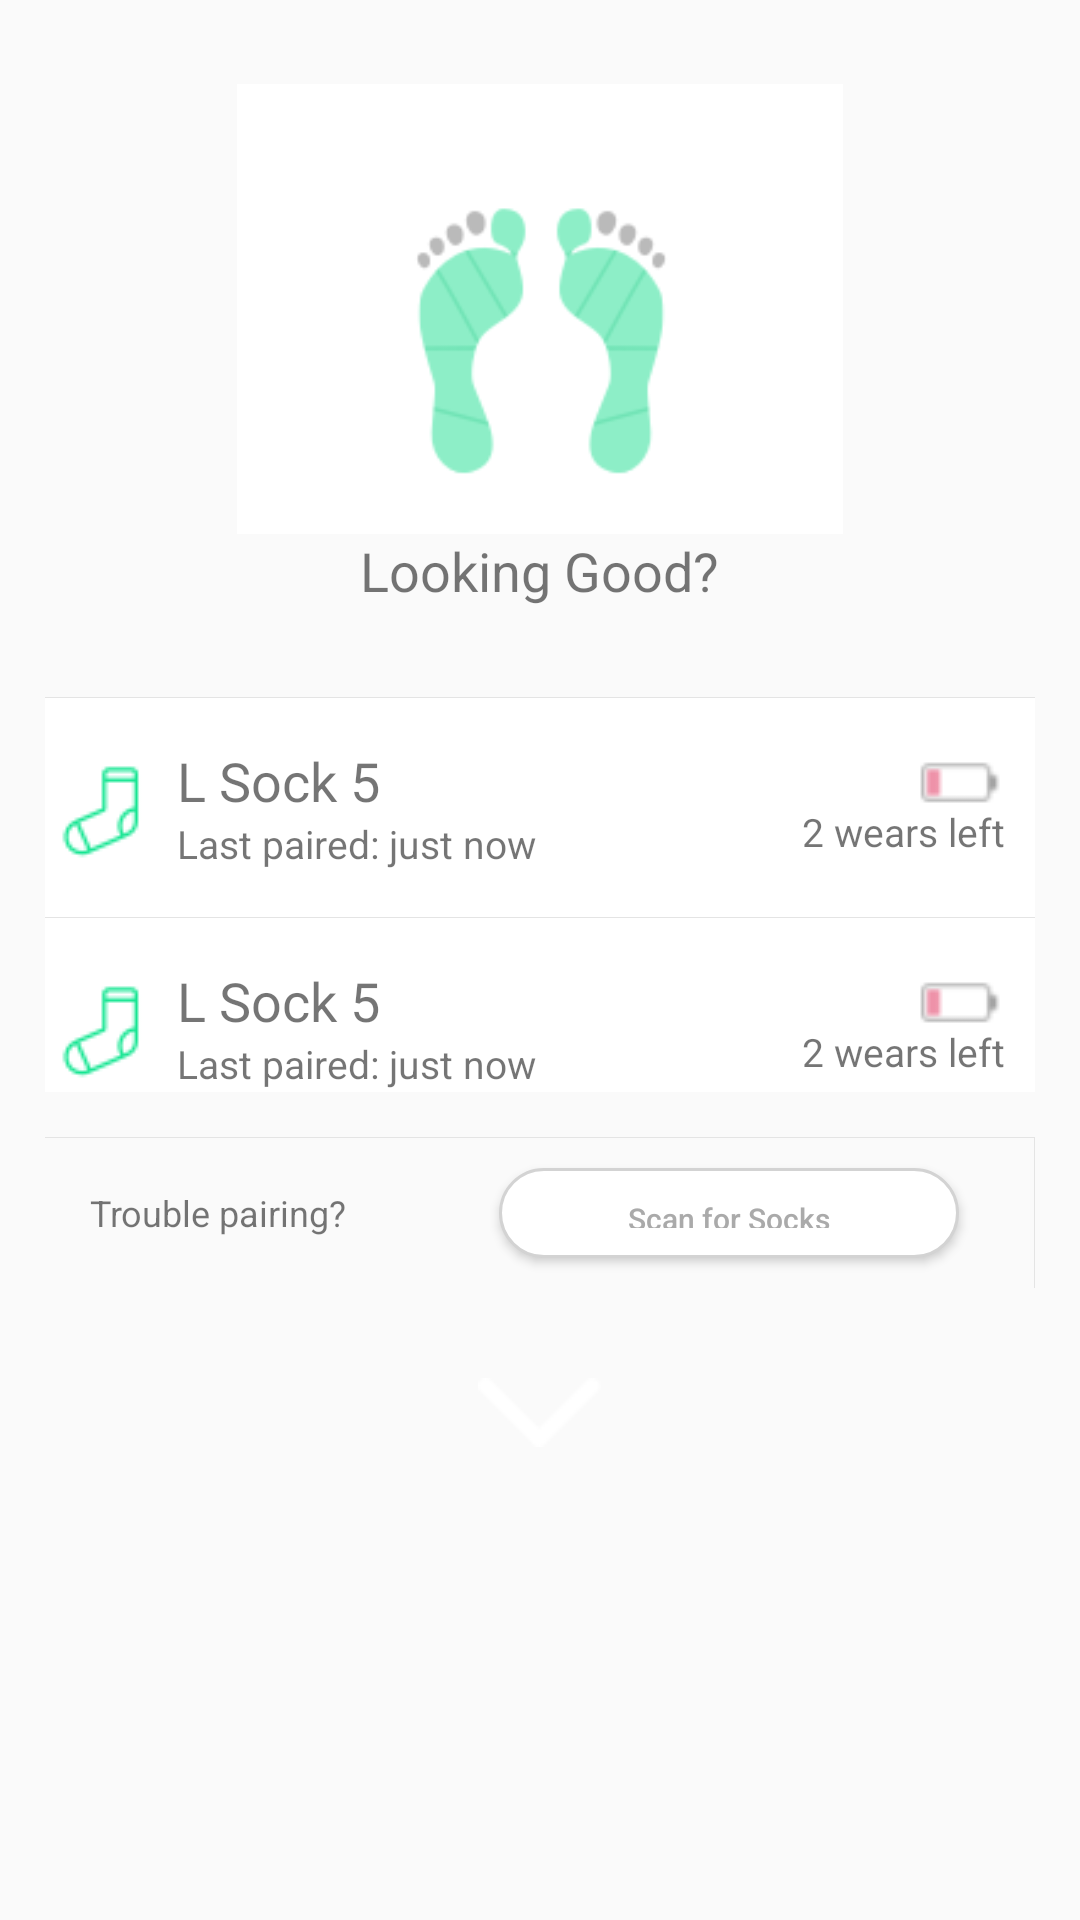

Icon bounding boxes for this 1080w x 1920h phone screenshot, format (x1,y1,x2,y2):
batter ex: (921,763,998,802), (921,983,998,1022)
feet good: (417,208,665,474)
